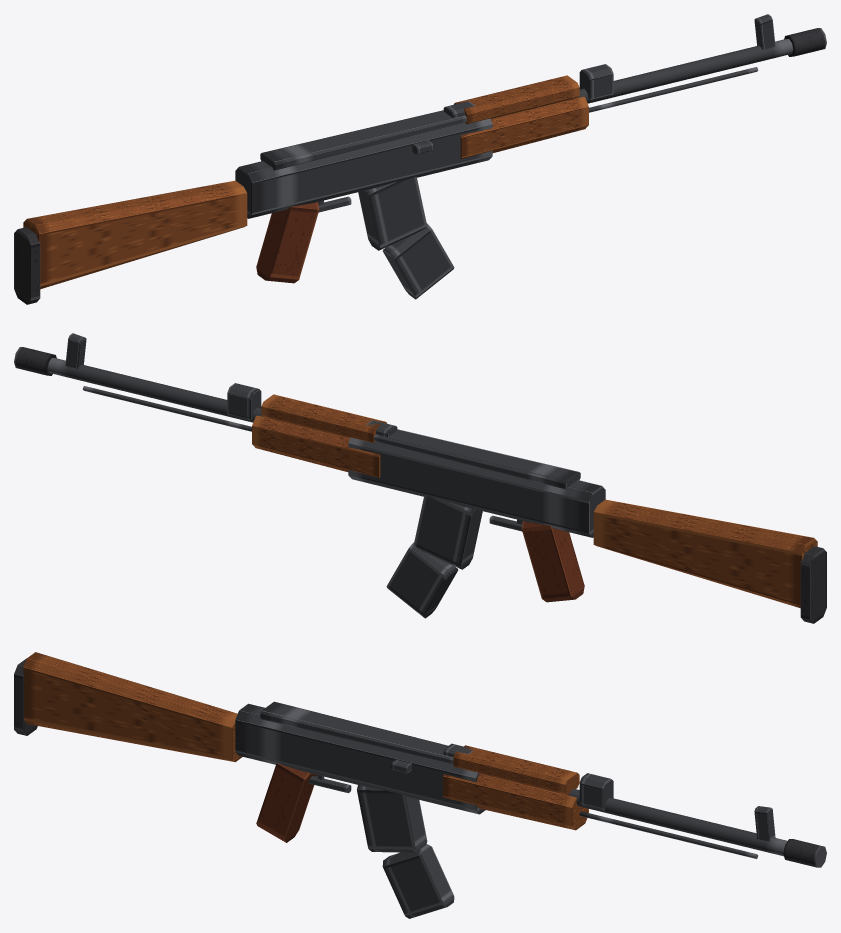
3 views of the same model, one above another, from view 1: azimuth 30°, elevation 25°; view 2: azimuth 150°, elevation 25°; view 3: azimuth 330°, elevation 25° (orthographic).
Visible parts, largest first — view 1: AK47_1P; view 2: AK47_1P; view 3: AK47_1P.
Boxes of the visible parts, x1,y1,x2,y2 form: AK47_1P: (14, 14, 826, 304); AK47_1P: (14, 333, 826, 623); AK47_1P: (14, 652, 826, 918).
Size of the model in its own units: 0.996 by 0.2323 by 0.048.
Materials: 1 (1 with a texture image).
